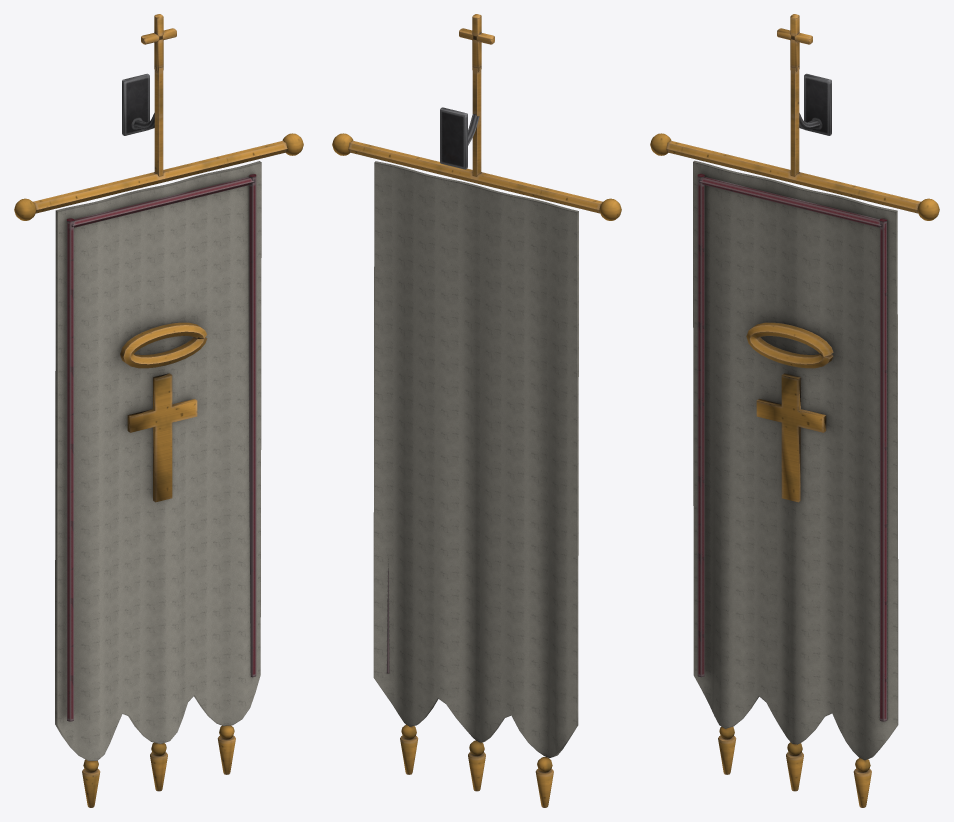
File: BannerChoir.fbx
3 renders of one model, left to right at view 1: azimuth 30°, elevation 25°; view 2: azimuth 150°, elevation 25°; view 3: azimuth 330°, elevation 25°, orthographic.
Visible parts, largest first — view 1: BannerChoir_Cloth, BannerChoir_Main; view 2: BannerChoir_Cloth, BannerChoir_Main; view 3: BannerChoir_Cloth, BannerChoir_Main.
Boxes of the visible parts, box(x1,y1,x2,y2) form: BannerChoir_Cloth: box(55, 161, 261, 807); BannerChoir_Main: box(14, 14, 303, 220); BannerChoir_Cloth: box(373, 161, 578, 807); BannerChoir_Main: box(332, 14, 621, 220); BannerChoir_Cloth: box(693, 160, 898, 807); BannerChoir_Main: box(650, 14, 939, 220).
Bounding box in the file's own units: 324 × 837 × 63.65.
